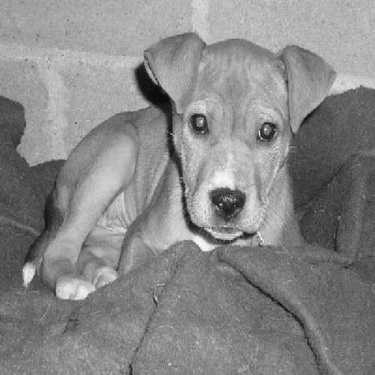dog: (13, 23, 340, 306)
